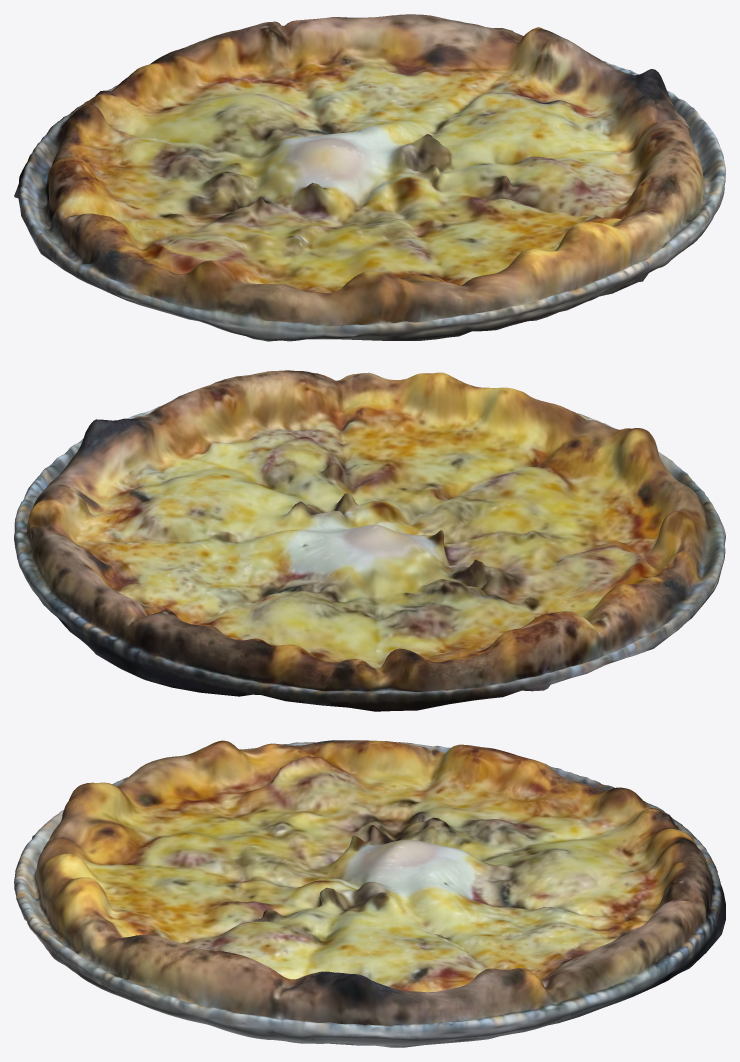
Rendered from elite.glb.
3 renders of one model, top to bottom at view 1: azimuth 30°, elevation 25°; view 2: azimuth 150°, elevation 25°; view 3: azimuth 270°, elevation 25°, orthographic.
Visible parts, largest first — view 1: ObjectCapture; view 2: ObjectCapture; view 3: ObjectCapture.
Boxes of the visible parts, <box> form: ObjectCapture: <box>14,14,725,341</box>; ObjectCapture: <box>14,370,725,711</box>; ObjectCapture: <box>14,740,725,1047</box>.
Size of the model in its own units: 0.721 by 0.0882 by 0.715.
Materials: 1 (1 with a texture image).
